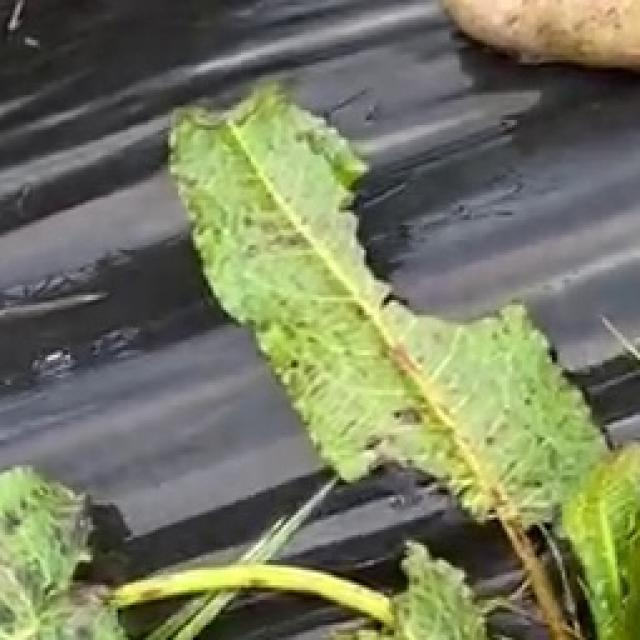organic waste: (175, 92, 633, 640)
